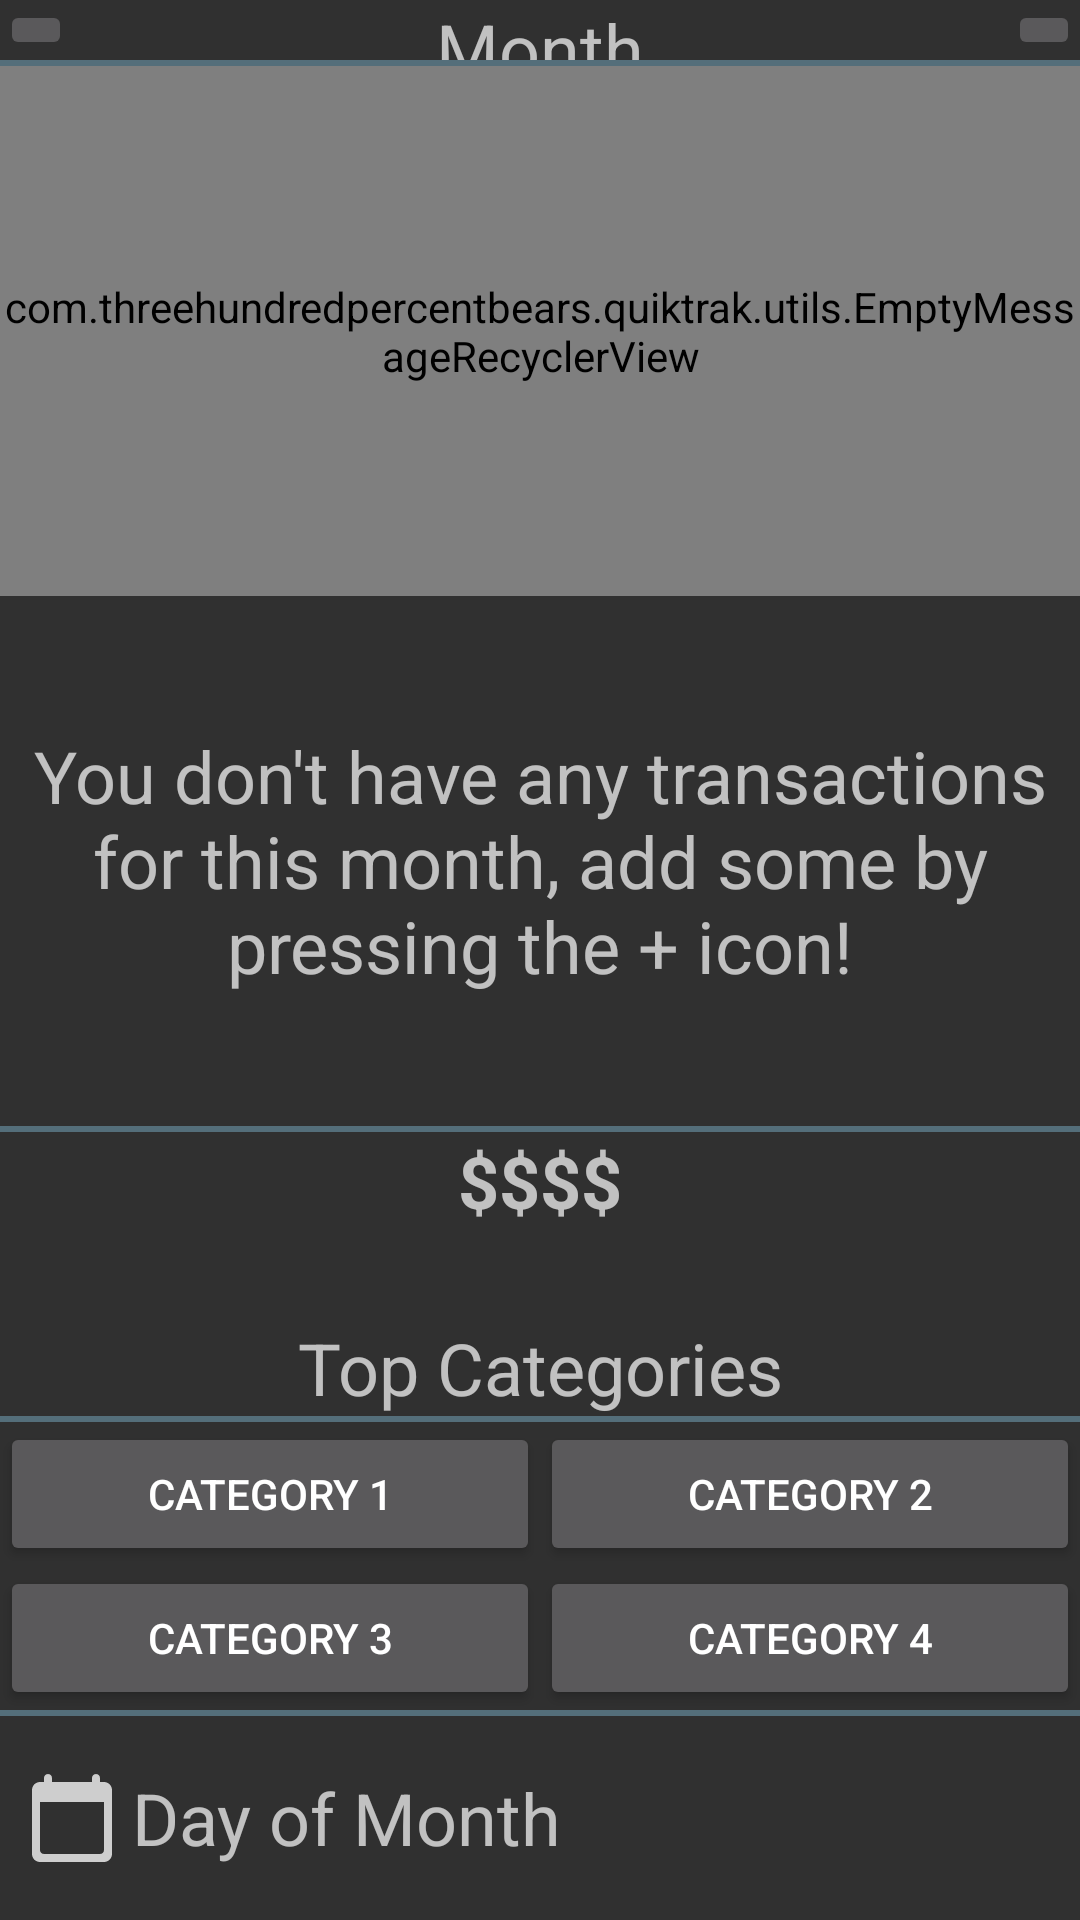

Screen size 1080 × 1920. Icon name, then its box in pixels as [left=x1, top=y1, right=x2, bottom=y2]:
calendar: [left=32, top=1774, right=112, bottom=1862]
